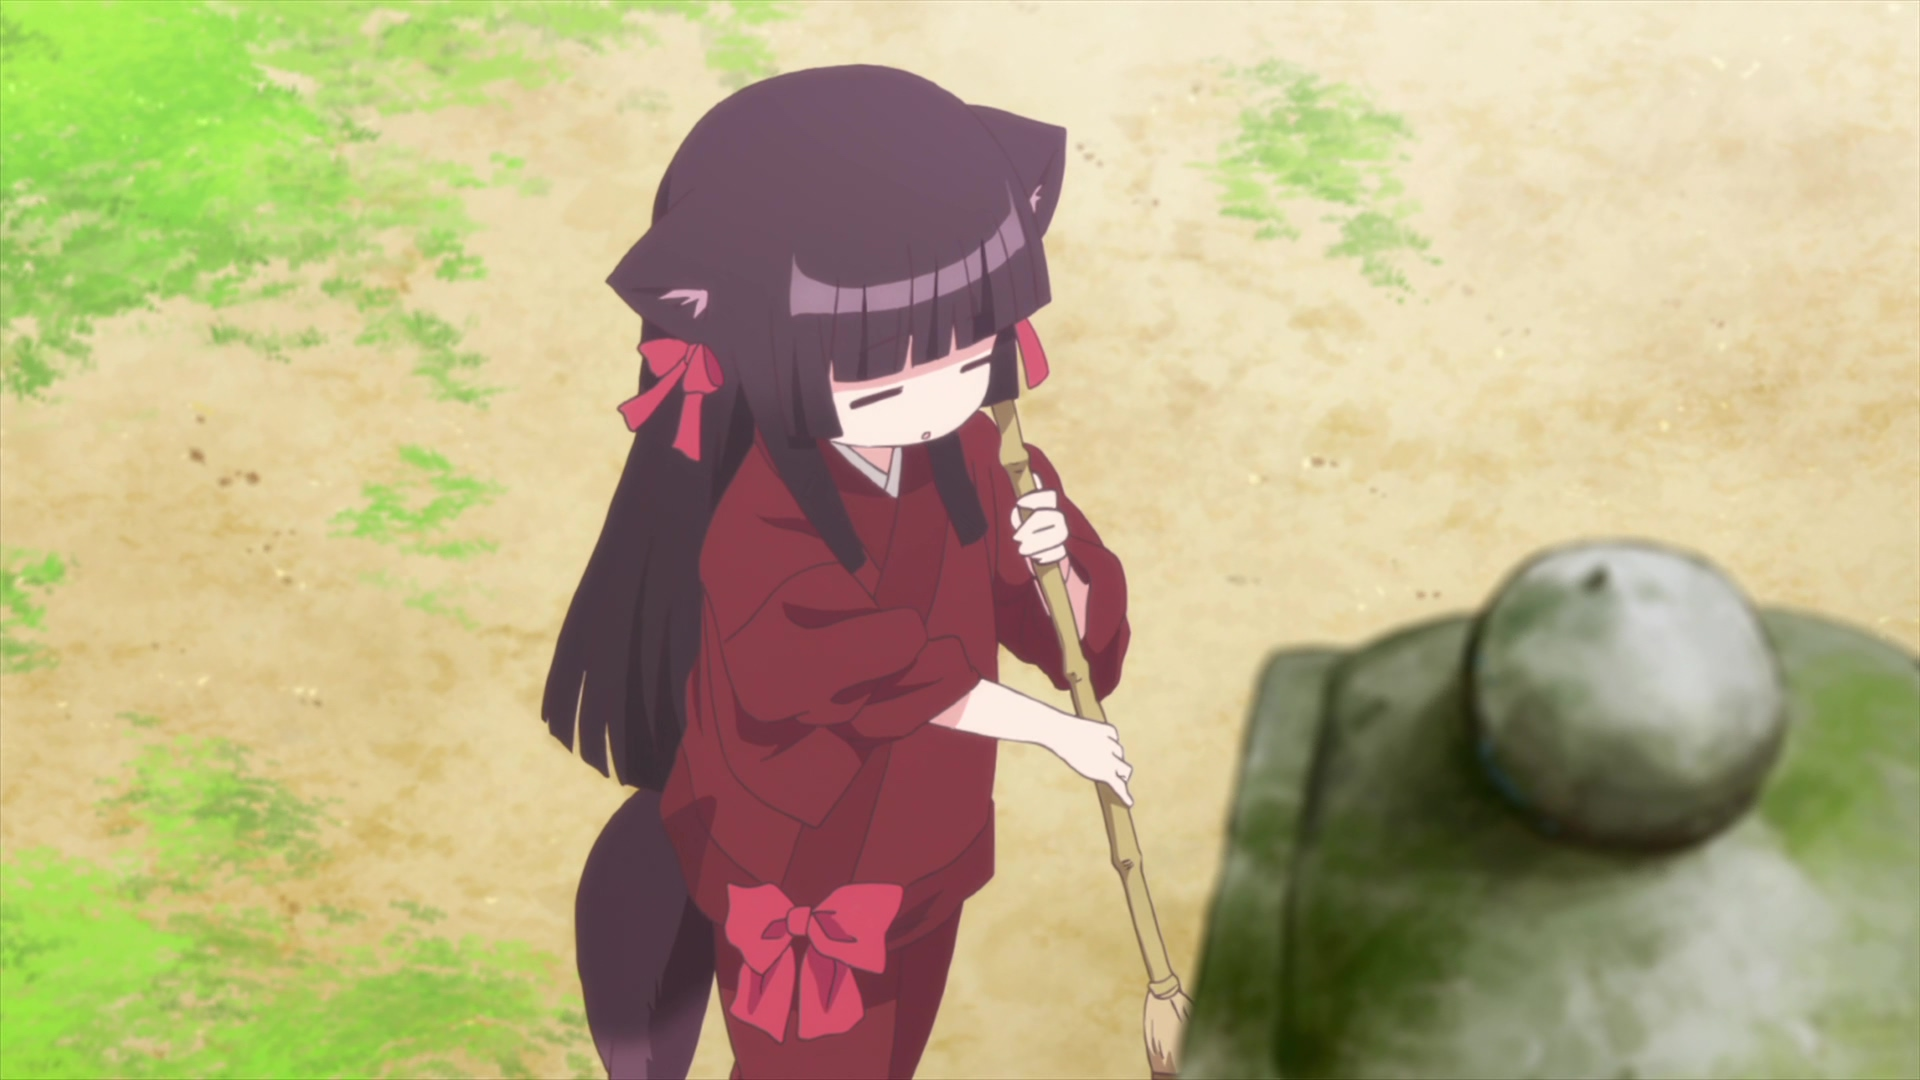樱: (541, 65, 1133, 1080)
